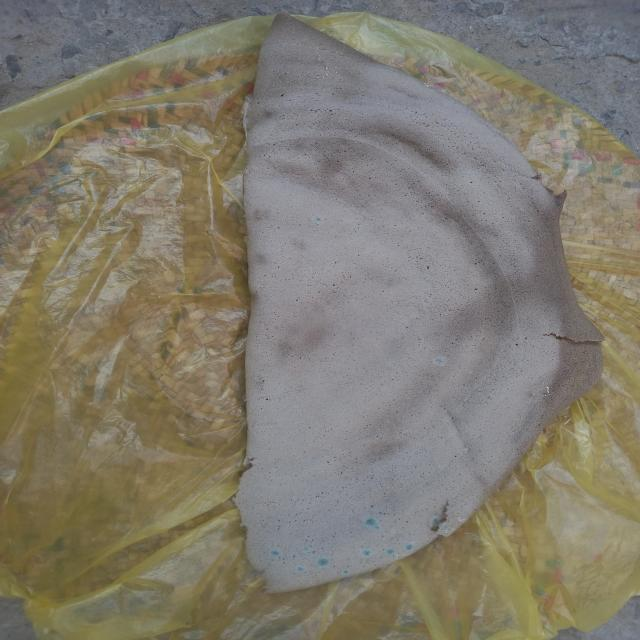injera_mold: (544, 386, 554, 396), (270, 549, 281, 558), (317, 558, 329, 566), (364, 518, 377, 525), (444, 528, 456, 534), (435, 358, 445, 364), (361, 550, 371, 556), (432, 517, 439, 525), (405, 544, 414, 550), (457, 517, 466, 523), (386, 548, 394, 554), (342, 570, 350, 575), (296, 567, 304, 572), (423, 83, 432, 87), (303, 546, 309, 551), (315, 217, 321, 222), (325, 70, 330, 76), (318, 55, 322, 61), (374, 526, 379, 530), (428, 89, 434, 92), (324, 66, 328, 70), (542, 381, 545, 384), (334, 66, 337, 69), (533, 386, 536, 388), (532, 393, 535, 395), (549, 380, 552, 382), (335, 71, 338, 73), (317, 76, 319, 78), (322, 77, 325, 78), (437, 90, 438, 90)
